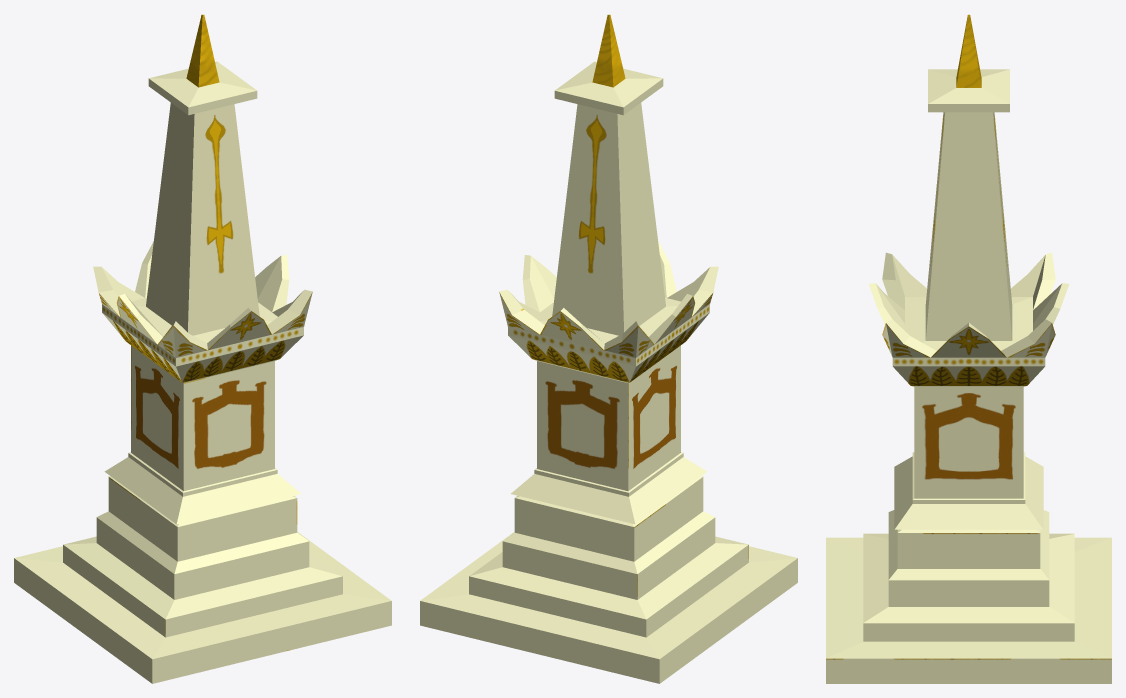
Rendered from tugu jogja.fbx.
3 views of the same model, side by side, from view 1: azimuth 30°, elevation 25°; view 2: azimuth 150°, elevation 25°; view 3: azimuth 270°, elevation 25° (orthographic). The views are drawn at different scales.
Visible parts, largest first — view 1: Cube; view 2: Cube; view 3: Cube.
Part boxes in pixels (bbox=[...]): Cube: bbox=[14, 14, 391, 683]; Cube: bbox=[420, 14, 797, 683]; Cube: bbox=[826, 14, 1111, 683].
Size of the model in its own units: 229 by 538 by 229.
Materials: 1 (1 with a texture image).
